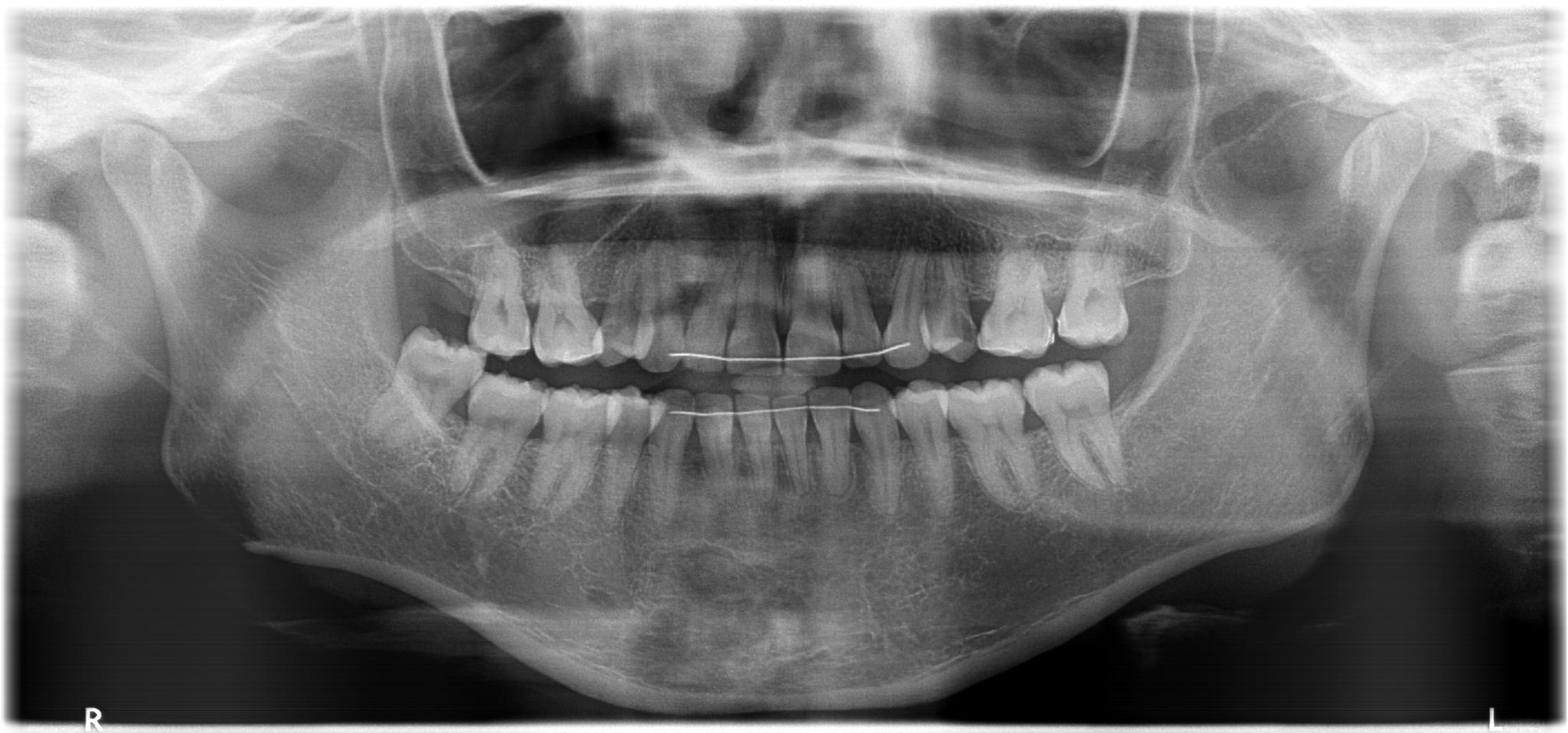Premolars: (484, 118, 1415, 330), (260, 156, 792, 517), (170, 195, 531, 639)
